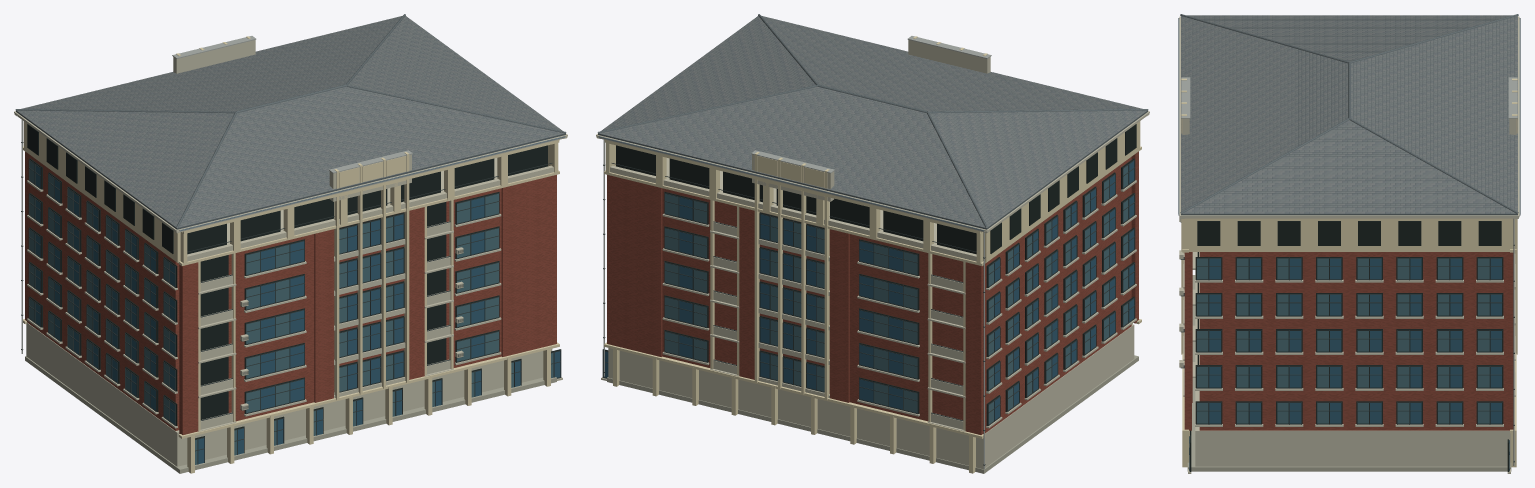
3 views of the same model, side by side, from view 1: azimuth 30°, elevation 25°; view 2: azimuth 150°, elevation 25°; view 3: azimuth 270°, elevation 25° (orthographic). The views are drawn at different scales.
Parts seen in each view (by area): view 1: MainBlock_PhotoLowPitchedRoof_ClippedTileField_3, MainBlock_BroadSolidBrickPiers, MainBlock_SetBackBrickCore, MainBlock_PhotoLowPitchedRoof_ClippedTileField_1, MainBlock_PhotoLowPitchedRoof_ClippedTileField_4, MainBlock_PaleStoneGroundBody, MainBlock_SideRoom_GlassPane, MainBlock_ProjectingClassroomBrickField, MainBlock_PhotoLowPitchedRoof_ClippedTileField_2, MainBlock_CentralStair_GlassPane, MainBlock_ClassroomZone2_GlassPane, MainBlock_AtticDeepOpenCorridor (+42 smaller); view 2: MainBlock_PhotoLowPitchedRoof_ClippedTileField_1, MainBlock_BroadSolidBrickPiers, MainBlock_SetBackBrickCore, MainBlock_PaleStoneGroundBody, MainBlock_PhotoLowPitchedRoof_ClippedTileField_3, MainBlock_PhotoLowPitchedRoof_ClippedTileField_4, MainBlock_SideRoom_GlassPane, MainBlock_ProjectingClassroomBrickField, MainBlock_PhotoLowPitchedRoof_ClippedTileField_2, MainBlock_CentralStair_GlassPane, MainBlock_ClassroomZone2_GlassPane, MainBlock_AtticDeepOpenCorridor (+40 smaller); view 3: MainBlock_SetBackBrickCore, MainBlock_SideRoom_GlassPane, MainBlock_PhotoLowPitchedRoof_ClippedTileField_3, MainBlock_PhotoLowPitchedRoof_ClippedTileField_1, MainBlock_PhotoLowPitchedRoof_ClippedTileField_2, MainBlock_PaleStoneGroundBody, MainBlock_PhotoLowPitchedRoof_ThinOverlappingTileCourses, MainBlock_PhotoLowPitchedRoof_ClippedTileField_4, MainBlock_SideRoom_RecessShadow, MainBlock_UpperSideIvoryWall, MainBlock_PhotoLowPitchedRoof_ContinuousTileUnderlay, MainBlock_SideAtticDarkOpenings (+18 smaller).
Boxes of the visible parts, bbox=[...] form: MainBlock_PhotoLowPitchedRoof_ClippedTileField_3: bbox=[177, 86, 564, 227]; MainBlock_BroadSolidBrickPiers: bbox=[25, 151, 556, 434]; MainBlock_SetBackBrickCore: bbox=[27, 153, 449, 430]; MainBlock_PhotoLowPitchedRoof_ClippedTileField_1: bbox=[21, 16, 402, 112]; MainBlock_PhotoLowPitchedRoof_ClippedTileField_4: bbox=[17, 110, 234, 227]; MainBlock_PaleStoneGroundBody: bbox=[26, 322, 552, 466]; MainBlock_SideRoom_GlassPane: bbox=[29, 161, 175, 424]; MainBlock_ProjectingClassroomBrickField: bbox=[235, 188, 501, 421]; MainBlock_PhotoLowPitchedRoof_ClippedTileField_2: bbox=[348, 16, 562, 130]; MainBlock_CentralStair_GlassPane: bbox=[339, 214, 403, 391]; MainBlock_ClassroomZone2_GlassPane: bbox=[246, 241, 304, 412]; MainBlock_AtticDeepOpenCorridor: bbox=[187, 145, 547, 254]; MainBlock_PhotoLowPitchedRoof_ClippedTileField_1: bbox=[599, 86, 986, 227]; MainBlock_BroadSolidBrickPiers: bbox=[607, 151, 1138, 434]; MainBlock_SetBackBrickCore: bbox=[714, 157, 1131, 433]; MainBlock_PaleStoneGroundBody: bbox=[608, 324, 1134, 469]; MainBlock_PhotoLowPitchedRoof_ClippedTileField_3: bbox=[761, 16, 1142, 112]; MainBlock_PhotoLowPitchedRoof_ClippedTileField_4: bbox=[929, 110, 1146, 227]; MainBlock_SideRoom_GlassPane: bbox=[988, 161, 1134, 424]; MainBlock_ProjectingClassroomBrickField: bbox=[662, 188, 928, 421]; MainBlock_PhotoLowPitchedRoof_ClippedTileField_2: bbox=[601, 16, 815, 130]; MainBlock_CentralStair_GlassPane: bbox=[760, 214, 824, 391]; MainBlock_ClassroomZone2_GlassPane: bbox=[859, 241, 917, 412]; MainBlock_AtticDeepOpenCorridor: bbox=[616, 145, 976, 254]; MainBlock_SetBackBrickCore: bbox=[1199, 252, 1509, 430]; MainBlock_SideRoom_GlassPane: bbox=[1197, 258, 1501, 423]; MainBlock_PhotoLowPitchedRoof_ClippedTileField_3: bbox=[1181, 16, 1348, 213]; MainBlock_PhotoLowPitchedRoof_ClippedTileField_1: bbox=[1350, 16, 1517, 213]; MainBlock_PhotoLowPitchedRoof_ClippedTileField_2: bbox=[1183, 120, 1515, 213]; MainBlock_PaleStoneGroundBody: bbox=[1195, 270, 1510, 466]; MainBlock_PhotoLowPitchedRoof_ThinOverlappingTileCourses: bbox=[1193, 17, 1514, 210]; MainBlock_PhotoLowPitchedRoof_ClippedTileField_4: bbox=[1187, 15, 1511, 61]; MainBlock_SideRoom_RecessShadow: bbox=[1195, 257, 1503, 424]; MainBlock_UpperSideIvoryWall: bbox=[1189, 218, 1509, 251]; MainBlock_PhotoLowPitchedRoof_ContinuousTileUnderlay: bbox=[1181, 15, 1517, 213]; MainBlock_SideAtticDarkOpenings: bbox=[1197, 221, 1501, 245].
Bounding box in the file's own units: 43.35 × 28.9 × 31.37.
Materials: 15 (1 with a texture image).
